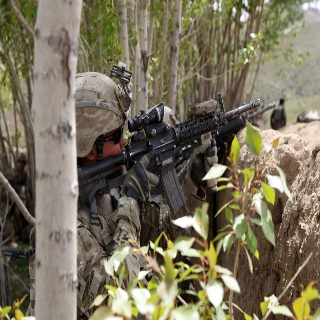rifle: (73, 92, 277, 214)
